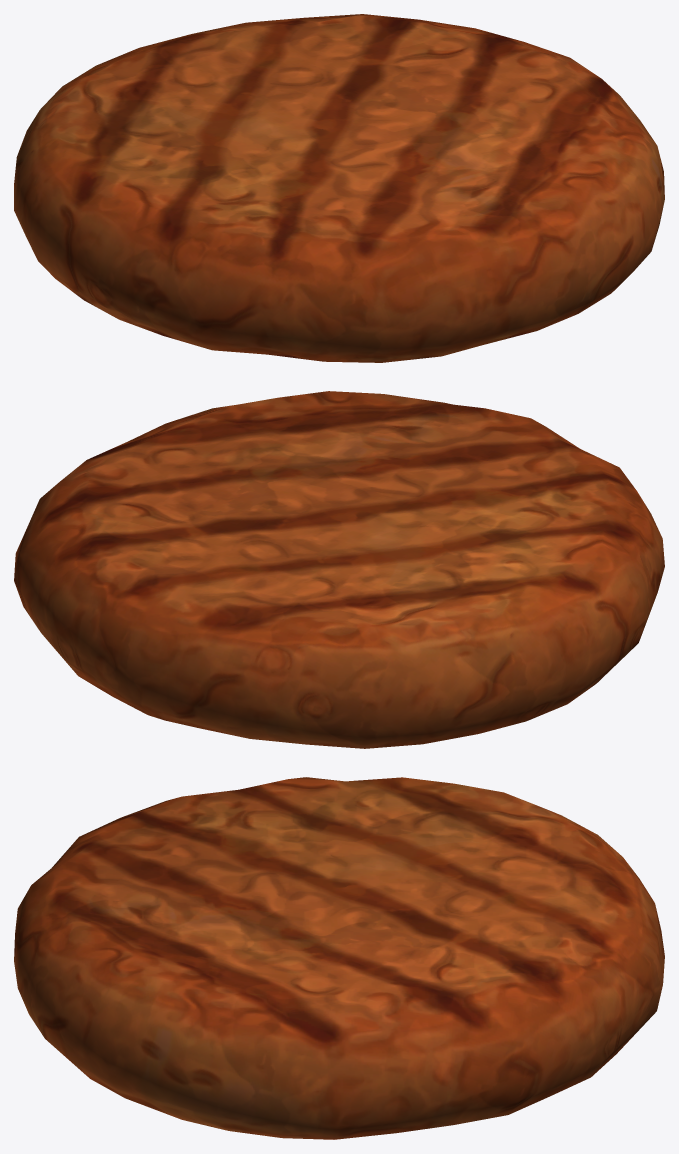
The model's file is SM_BurgerPattyGrilled.glb.
3 renders of one model, top to bottom at view 1: azimuth 30°, elevation 25°; view 2: azimuth 150°, elevation 25°; view 3: azimuth 270°, elevation 25°, orthographic.
Visible parts, largest first — view 1: SM_BurgerPattyGrilled; view 2: SM_BurgerPattyGrilled; view 3: SM_BurgerPattyGrilled.
Part boxes in pixels (left/top/right/bottom): SM_BurgerPattyGrilled: left=14, top=14, right=664, bottom=362; SM_BurgerPattyGrilled: left=14, top=391, right=664, bottom=748; SM_BurgerPattyGrilled: left=14, top=777, right=664, bottom=1139.
Size of the model in its own units: 0.1748 by 0.0362 by 0.1719.
1 material, 1 textured.
